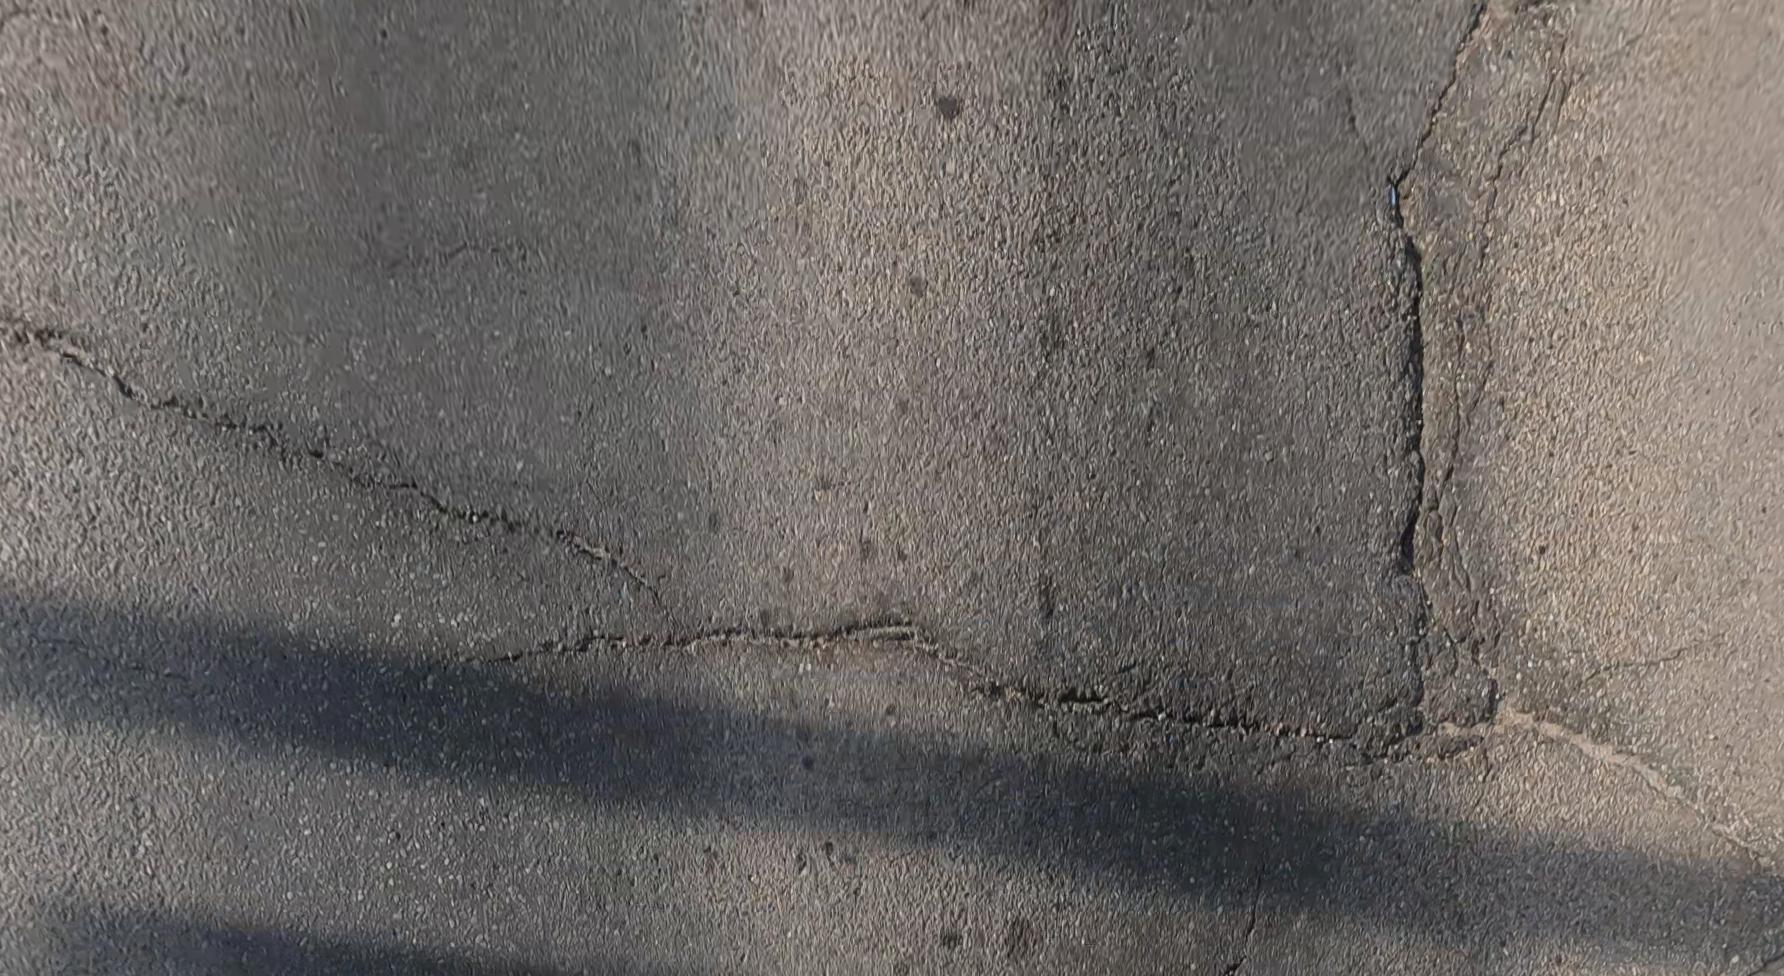pothole: (1486, 694, 1540, 737)
